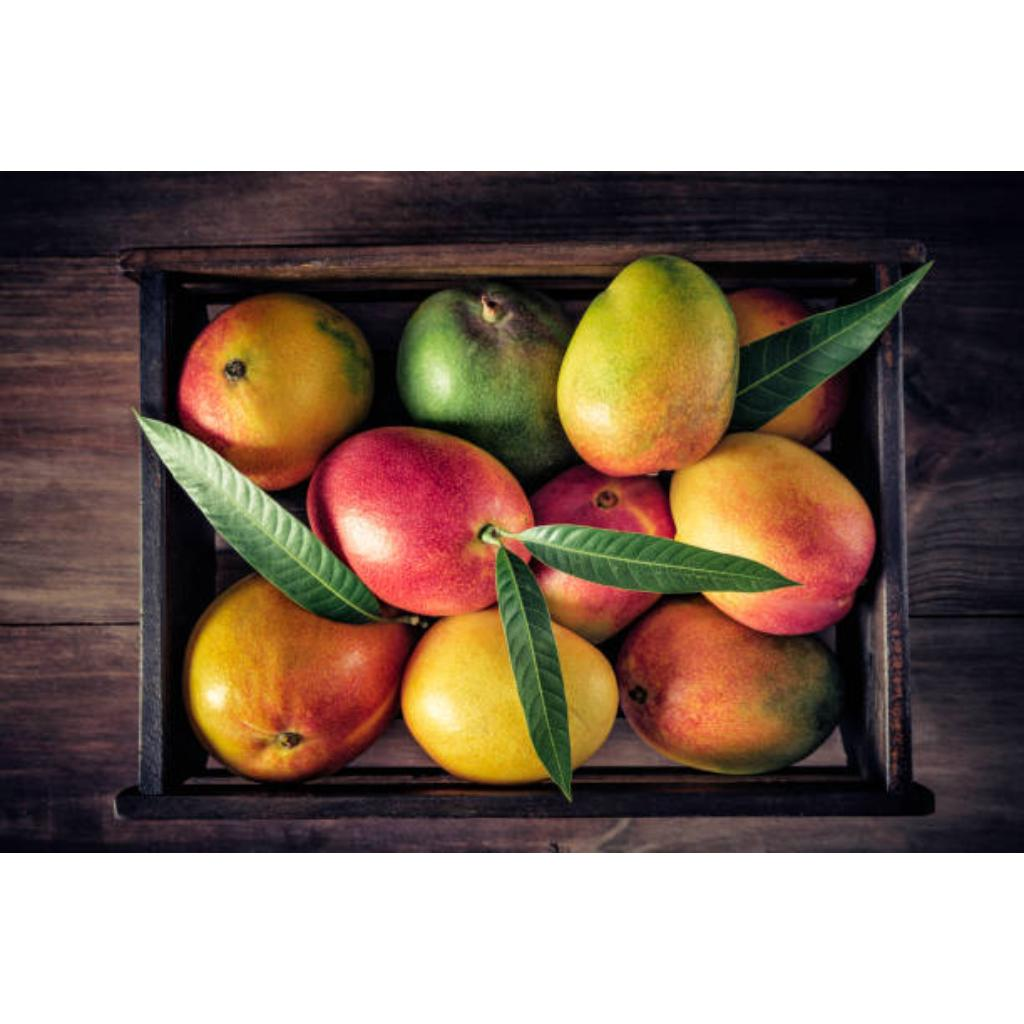mango: (184, 575, 414, 783), (306, 427, 534, 616), (670, 433, 876, 634), (618, 597, 842, 775), (558, 255, 738, 476), (178, 293, 374, 490), (396, 283, 574, 481), (530, 465, 677, 652), (400, 610, 548, 785), (553, 625, 618, 766)
